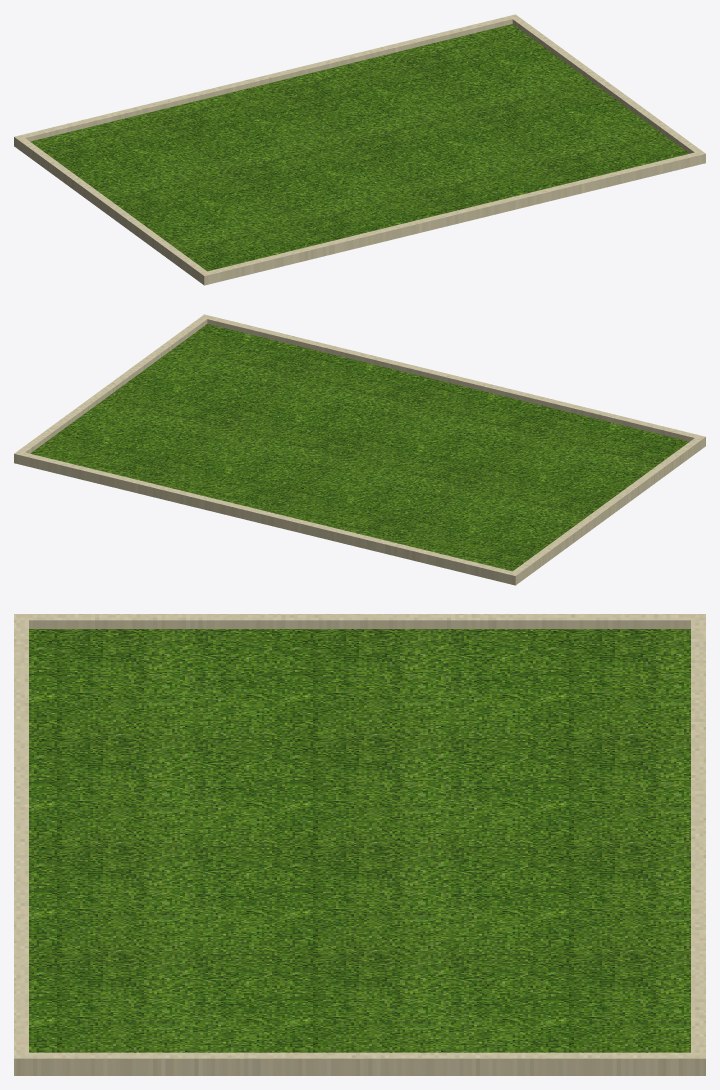
The model's file is Soccerfield.fbx.
3 views of the same model, one above another, from view 1: azimuth 30°, elevation 25°; view 2: azimuth 150°, elevation 25°; view 3: azimuth 270°, elevation 25° (orthographic). The views are drawn at different scales.
Parts seen in each view (by area): view 1: Soccerfield; view 2: Soccerfield; view 3: Soccerfield.
Part boxes in pixels (x1=…): Soccerfield: x1=14, y1=14, x2=705, y2=285; Soccerfield: x1=14, y1=314, x2=705, y2=585; Soccerfield: x1=14, y1=614, x2=705, y2=1075.
Size of the model in its own units: 1442 by 25.97 by 948.
